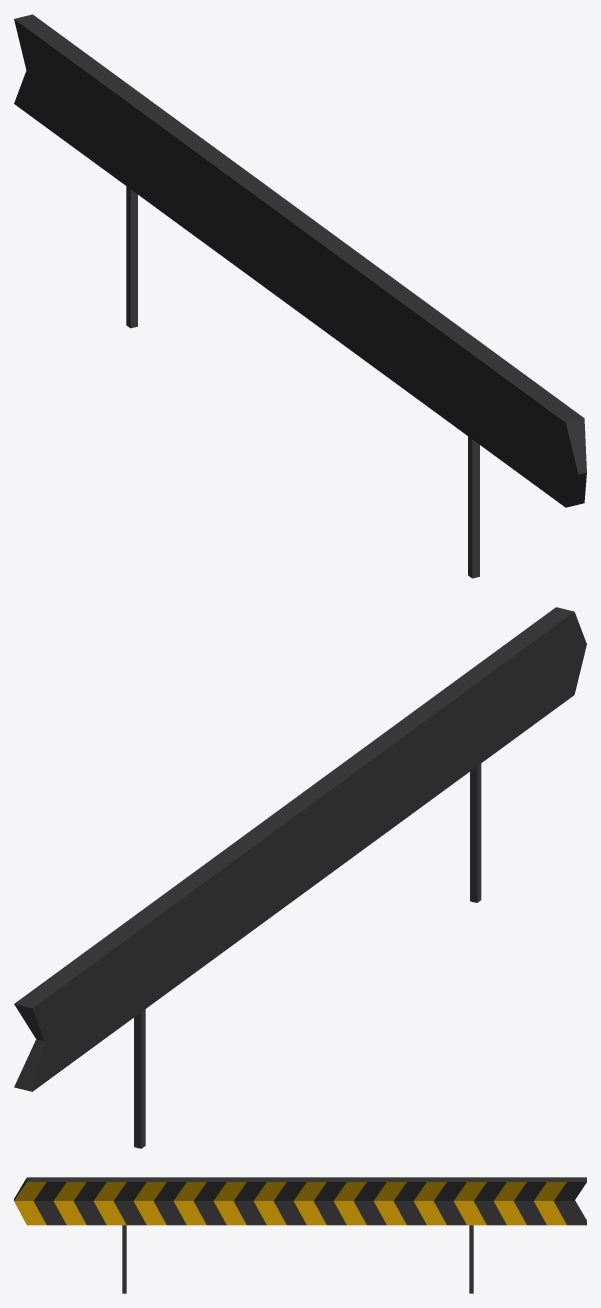
The model's file is road_fence_chunk.fbx.
3 renders of one model, top to bottom at view 1: azimuth 30°, elevation 25°; view 2: azimuth 150°, elevation 25°; view 3: azimuth 270°, elevation 25°, orthographic. The views are drawn at different scales.
Visible parts, largest first — view 1: Cube.001; view 2: Cube.001; view 3: Cube.001.
Boxes of the visible parts, bbox=[...] form: Cube.001: bbox=[14, 14, 586, 578]; Cube.001: bbox=[14, 607, 586, 1148]; Cube.001: bbox=[14, 1177, 586, 1293].
Bounding box in the file's own units: 28.14 × 322 × 1467.
